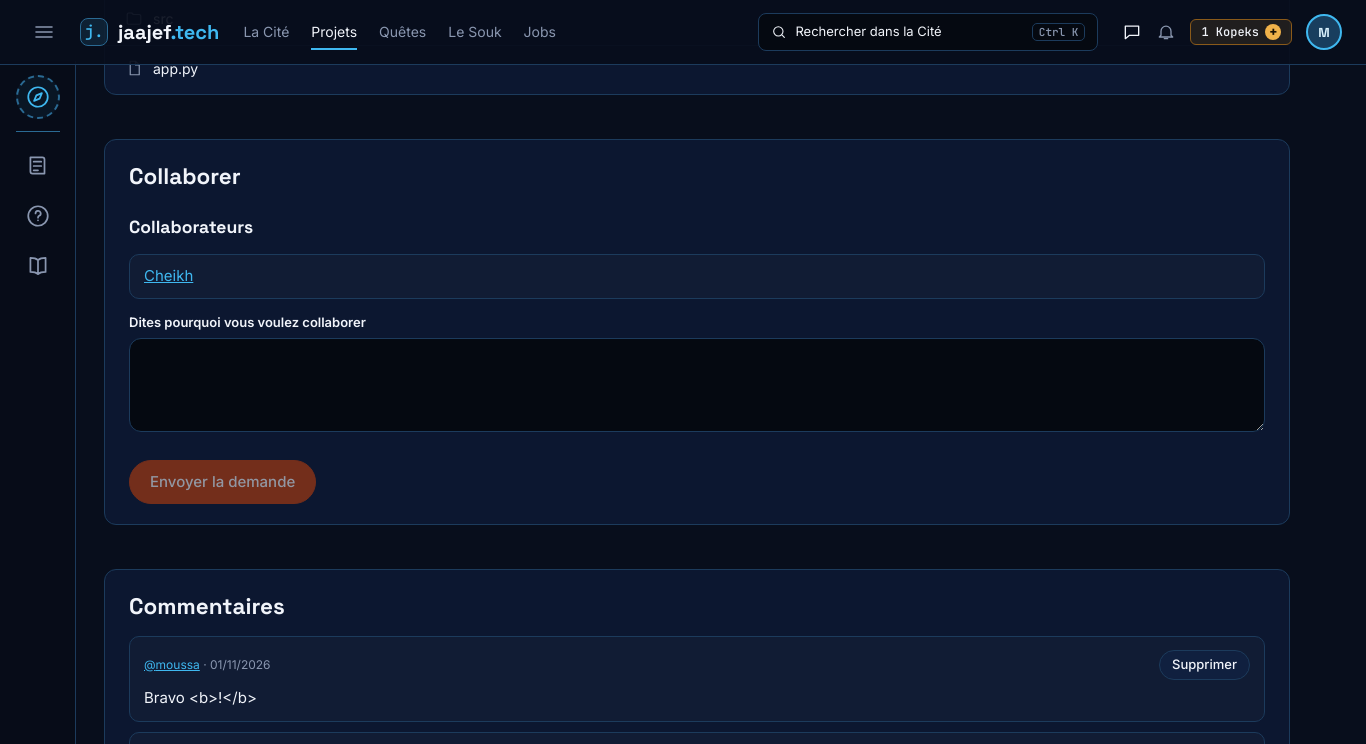
Project page › asks to collaborate with a message, and confirms
This screenshot has width=1366, height=744.
(page scrolled)
In the text box labelled "Dites pourquoi vous voulez collaborer": (697, 385) left=129, top=338, right=1265, bottom=432, type "Je connais Django"
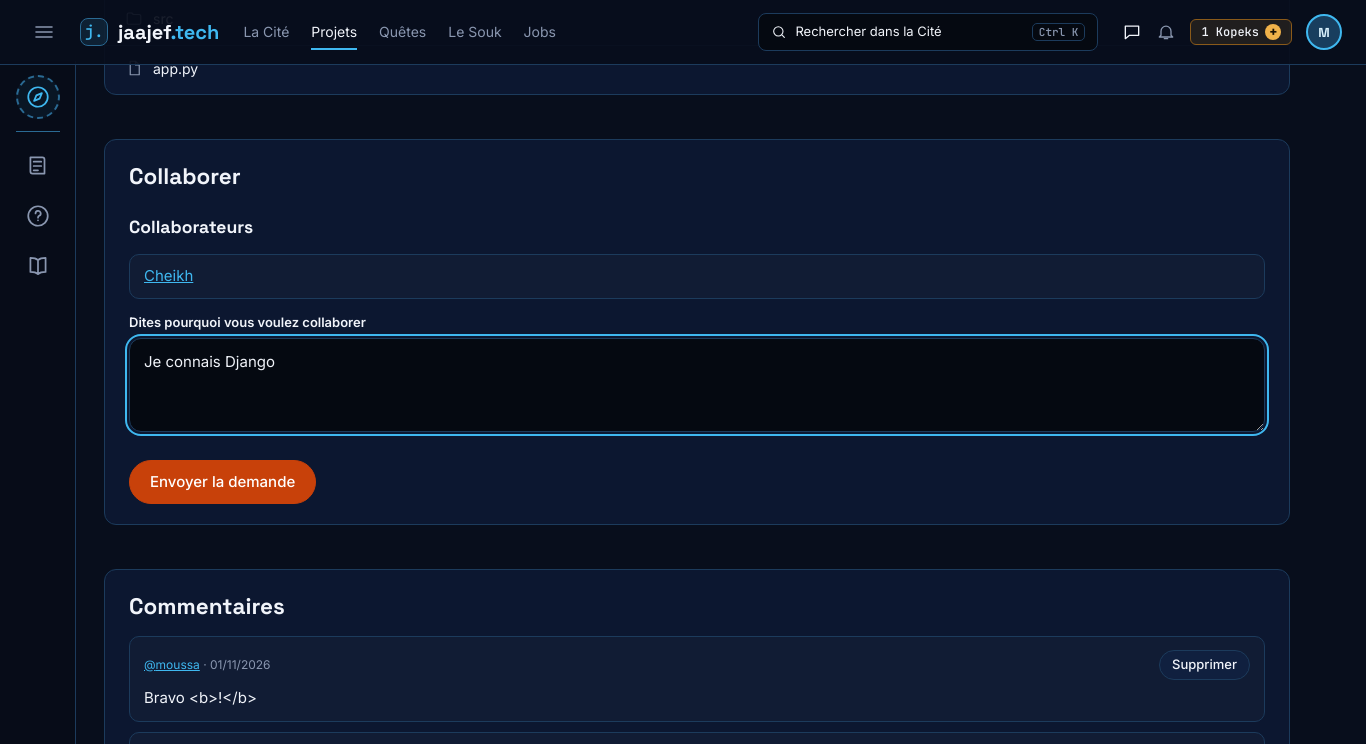
Click the button "Envoyer la demande": (223, 482) left=129, top=460, right=316, bottom=504
(page scrolled)
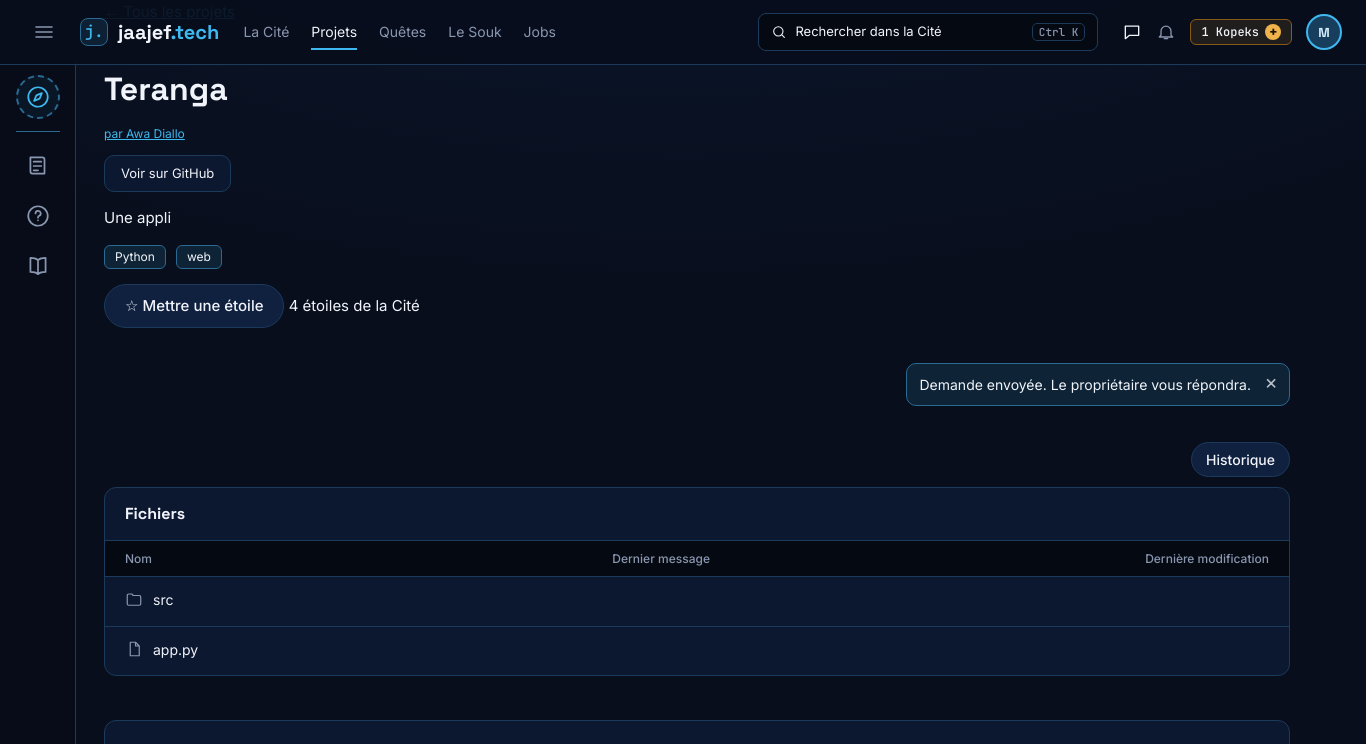
Check: the message shows "Demande envoyée", box left=920, top=376, right=1251, bottom=393
